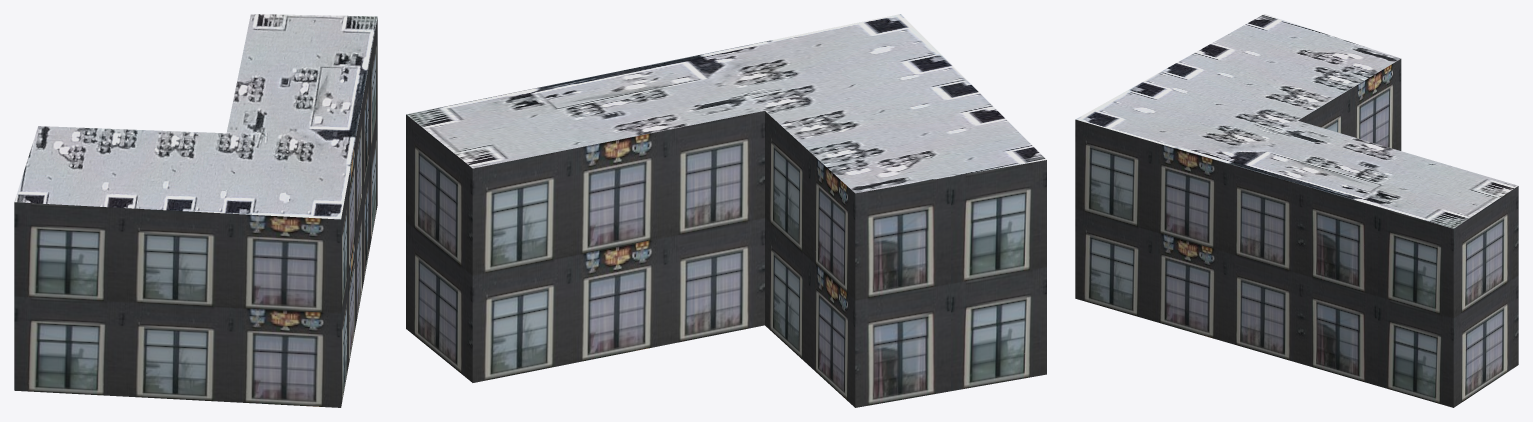
Rendered from ResTex__3583.fbx.
The picture shows the model from 3 angles, left to right: view 1: azimuth 30°, elevation 25°; view 2: azimuth 150°, elevation 25°; view 3: azimuth 270°, elevation 25°; orthographic projection. The views are drawn at different scales.
Visible parts, largest first — view 1: CityEngineMaterial_22_m, CityEngineMaterial_m; view 2: CityEngineMaterial_22_m, CityEngineMaterial_m; view 3: CityEngineMaterial_22_m, CityEngineMaterial_m.
Boxes of the visible parts, left/top/right/bottom form: CityEngineMaterial_22_m: left=14, top=18, right=377, bottom=407; CityEngineMaterial_m: left=14, top=14, right=377, bottom=219; CityEngineMaterial_22_m: left=406, top=111, right=1046, bottom=407; CityEngineMaterial_m: left=406, top=14, right=1046, bottom=193; CityEngineMaterial_22_m: left=1075, top=59, right=1518, bottom=407; CityEngineMaterial_m: left=1075, top=14, right=1518, bottom=228.
Size of the model in its own units: 15.43 by 6 by 13.45.
Materials: 2 (2 with a texture image).
